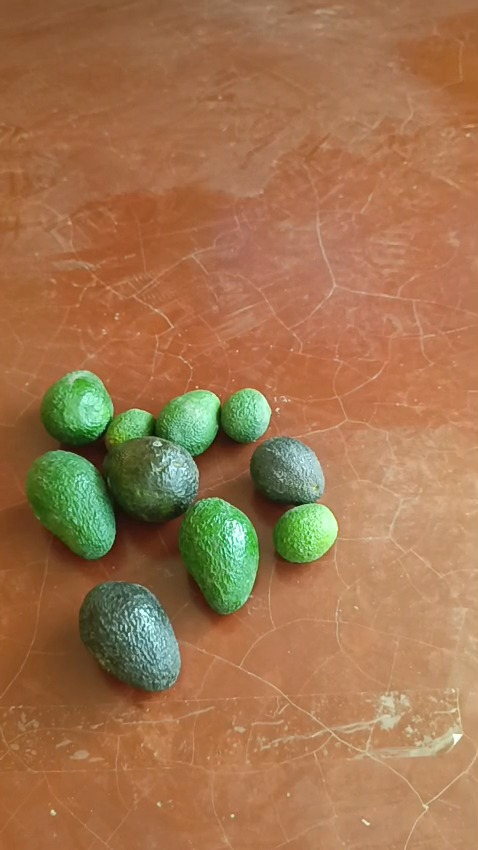Primera: (78, 580, 181, 689), (26, 450, 116, 559), (177, 497, 259, 612), (102, 436, 200, 522), (40, 370, 114, 446)
Segunda: (249, 437, 323, 504), (155, 389, 222, 457)
Tercera: (273, 503, 337, 563), (220, 388, 271, 442), (105, 409, 156, 450)
